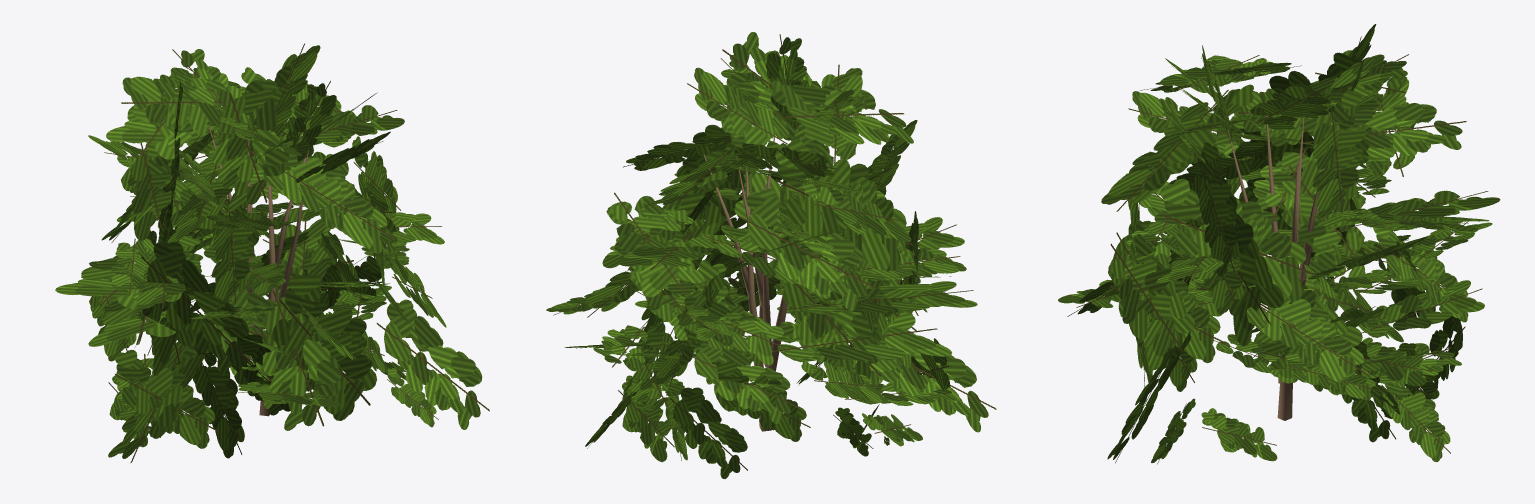
Rendered from mid.glb.
The picture shows the model from 3 angles, left to right: view 1: azimuth 30°, elevation 25°; view 2: azimuth 150°, elevation 25°; view 3: azimuth 270°, elevation 25°; orthographic projection. The views are drawn at different scales.
Visible parts, largest first — view 1: foliage.001, bark.001; view 2: foliage.001, bark.001; view 3: foliage.001, bark.001.
Part boxes in pixels (x1,y1,x2,y2): foliage.001: [55, 43, 489, 463]; bark.001: [208, 125, 308, 416]; foliage.001: [546, 32, 996, 478]; bark.001: [703, 137, 800, 431]; foliage.001: [1058, 24, 1500, 464]; bark.001: [1227, 101, 1334, 420].
Size of the model in its own units: 14.14 by 12.03 by 13.08.
Materials: 2 (1 with a texture image).
